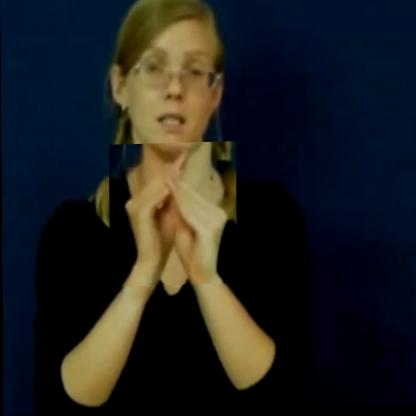Fix: (109, 143, 237, 287)
